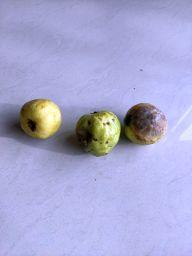guava: (71, 106, 123, 158), (118, 100, 170, 148), (17, 96, 63, 140)
